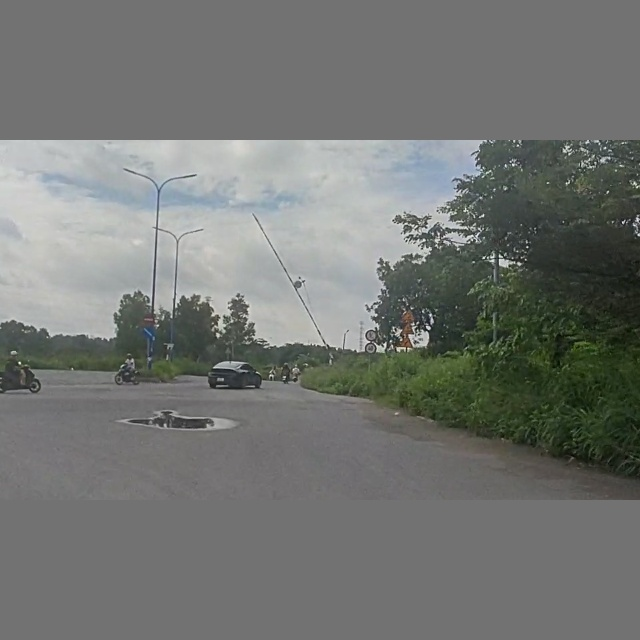P.102: (143, 313, 155, 326)
P.127*40: (364, 342, 379, 356)
R.302a: (141, 325, 157, 341)
W.201b: (401, 336, 415, 349)
